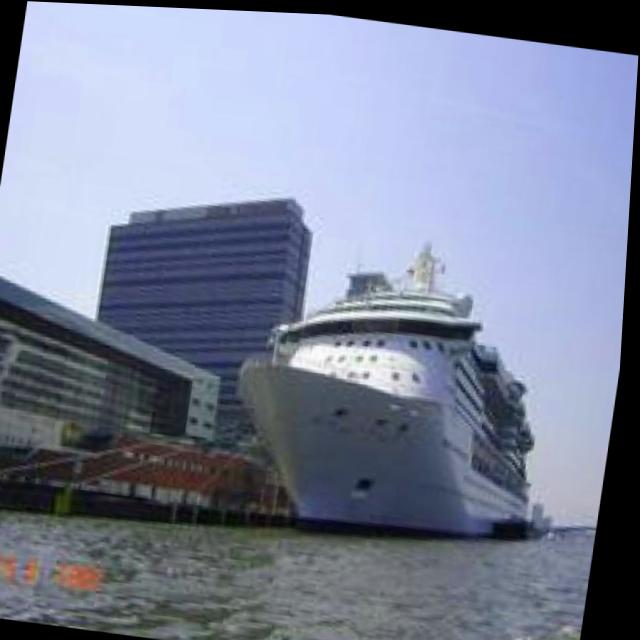ship2: (239, 237, 540, 536)
